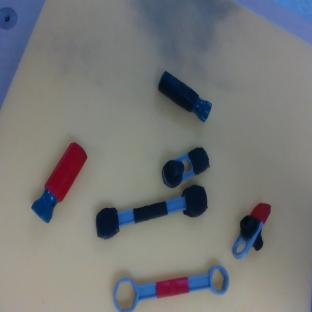part_1_bad: (156, 144, 214, 191)
part_1_good: (230, 199, 272, 263)
part_2_bad: (154, 71, 216, 123)
part_2_good: (28, 141, 93, 224)
part_3_bad: (92, 183, 211, 242)
part_3_good: (110, 259, 232, 312)
